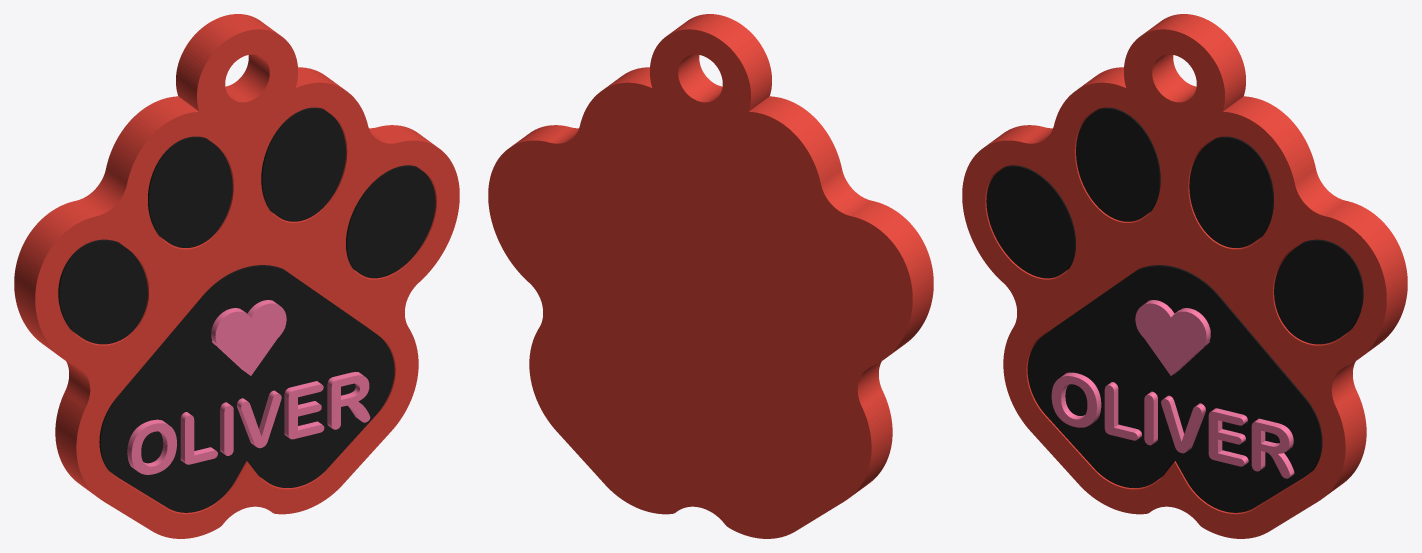
Rendered from llavero-pata-oliver.glb.
3 views of the same model, side by side, from view 1: azimuth 30°, elevation 25°; view 2: azimuth 150°, elevation 25°; view 3: azimuth 330°, elevation 25° (orthographic).
Visible parts, largest first — view 1: 1-contorno, 2-almohadillas, 3-letras; view 2: 1-contorno; view 3: 1-contorno, 2-almohadillas, 3-letras.
Part boxes in pixels (x1,y1,x2,y2): 1-contorno: (14, 14, 459, 538); 2-almohadillas: (58, 107, 435, 512); 3-letras: (127, 300, 370, 474); 1-contorno: (488, 14, 933, 538); 1-contorno: (962, 14, 1407, 538); 2-almohadillas: (986, 107, 1363, 512); 3-letras: (1051, 300, 1294, 478).
Bounding box in the file's own units: 0.0419 × 0.0466 × 0.0042.
